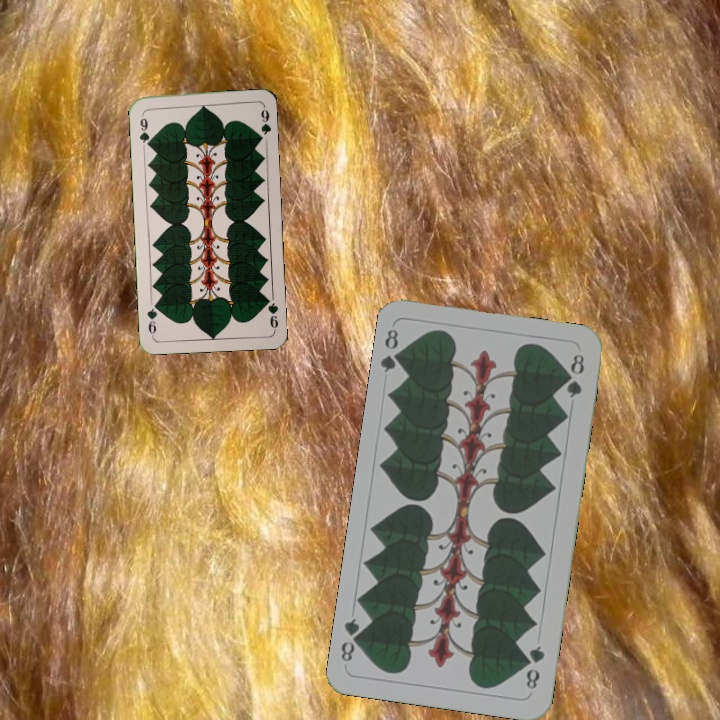G8: (377, 325, 407, 375), (522, 641, 548, 692)
G9: (261, 292, 281, 333), (135, 109, 153, 150)
